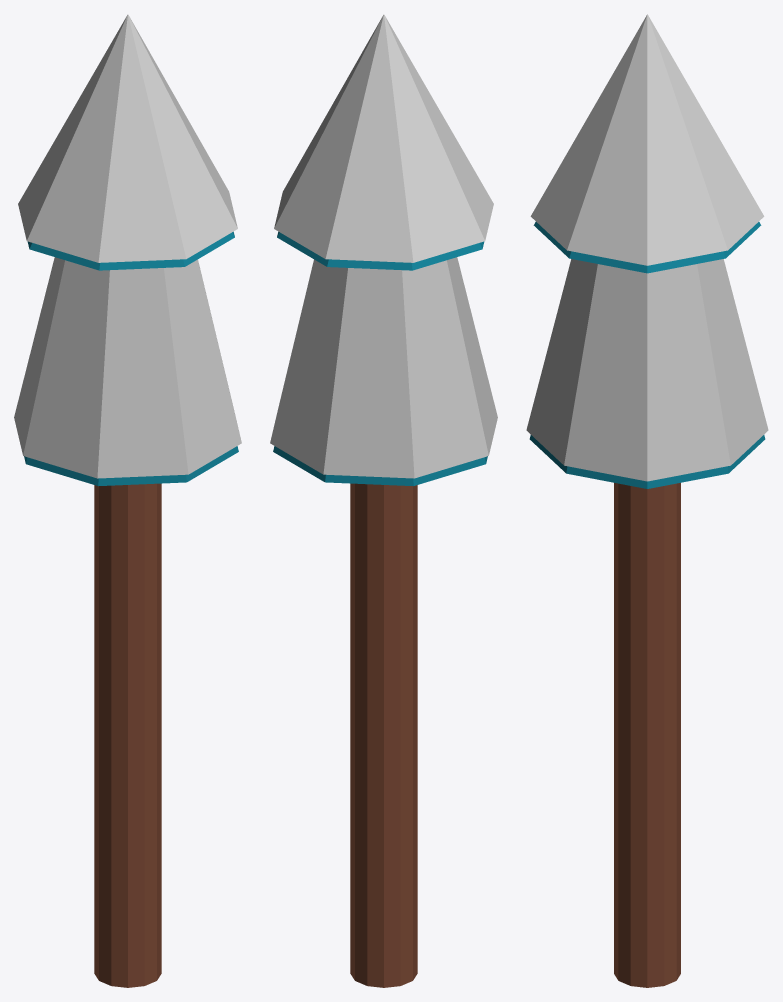
File: Tree_21_winter_blue_mat.fbx
The picture shows the model from 3 angles, left to right: view 1: azimuth 30°, elevation 25°; view 2: azimuth 150°, elevation 25°; view 3: azimuth 270°, elevation 25°; orthographic projection.
Visible parts, largest first — view 1: Tree_21_winter_blue_mat; view 2: Tree_21_winter_blue_mat; view 3: Tree_21_winter_blue_mat.
Part boxes in pixels (x1,y1,x2,y2): Tree_21_winter_blue_mat: (14,14,241,987); Tree_21_winter_blue_mat: (270,14,497,987); Tree_21_winter_blue_mat: (526,14,768,987).
Bounding box in the file's own units: 80.03 × 350 × 80.03.
